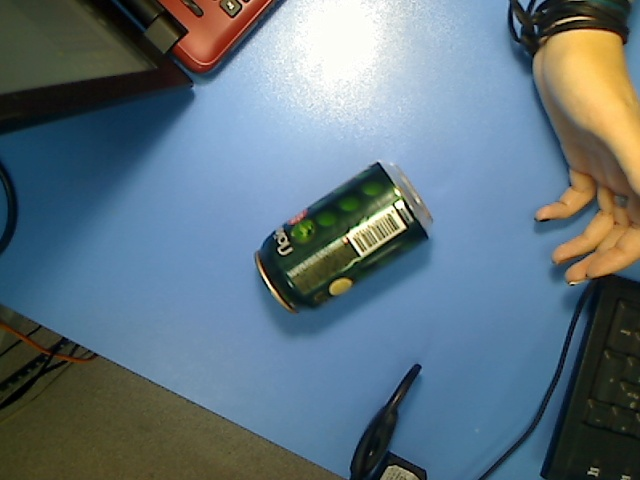can: (251, 159, 435, 316)
